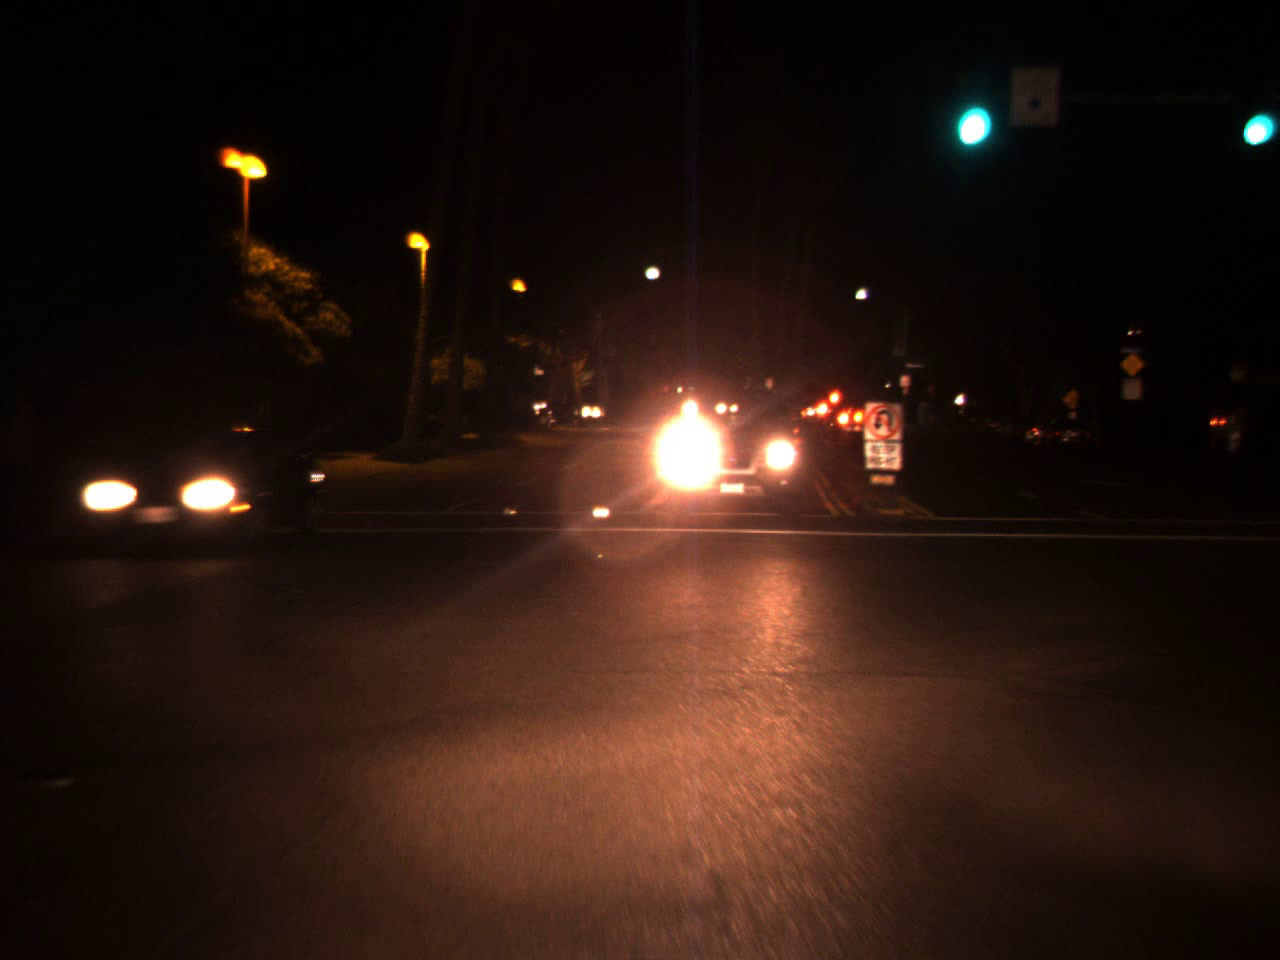go: (1229, 74, 1280, 158), (948, 71, 989, 158)
